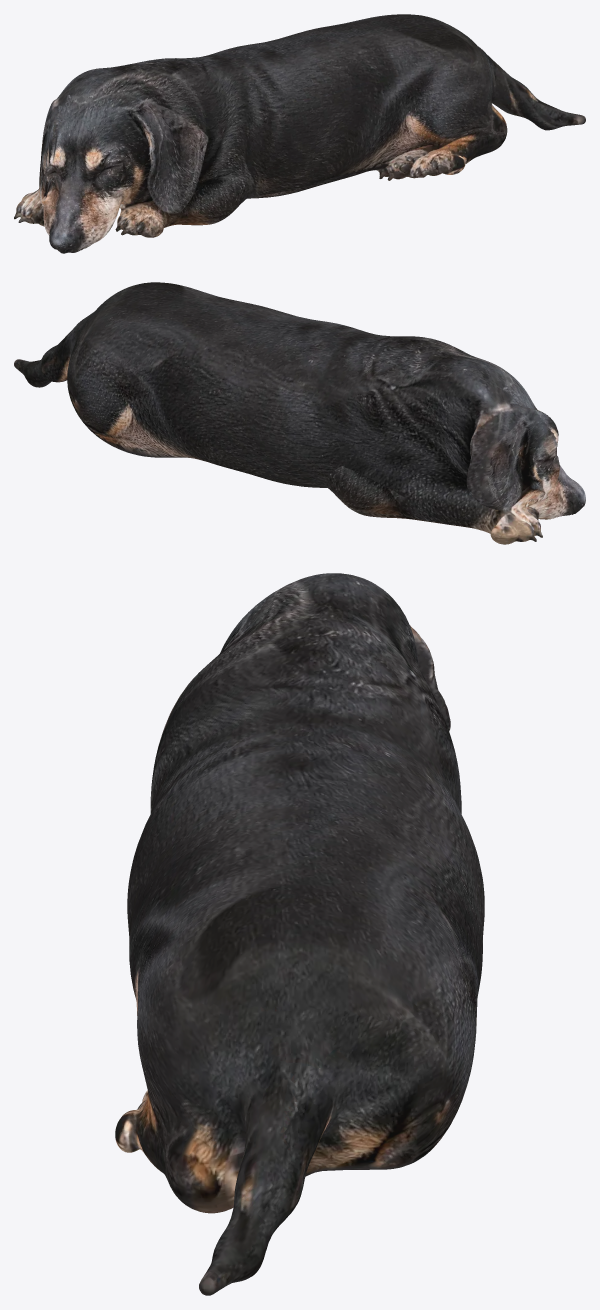
The model's file is jili.glb.
3 views of the same model, one above another, from view 1: azimuth 30°, elevation 25°; view 2: azimuth 150°, elevation 25°; view 3: azimuth 270°, elevation 25° (orthographic). The views are drawn at different scales.
Visible parts, largest first — view 1: Jili; view 2: Jili; view 3: Jili.
Boxes of the visible parts, x1,y1,x2,y2 form: Jili: [14, 14, 585, 253]; Jili: [14, 282, 585, 544]; Jili: [115, 573, 484, 1295].
Bounding box in the file's own units: 0.5221 × 0.1328 × 0.1578.
Materials: 1 (1 with a texture image).
